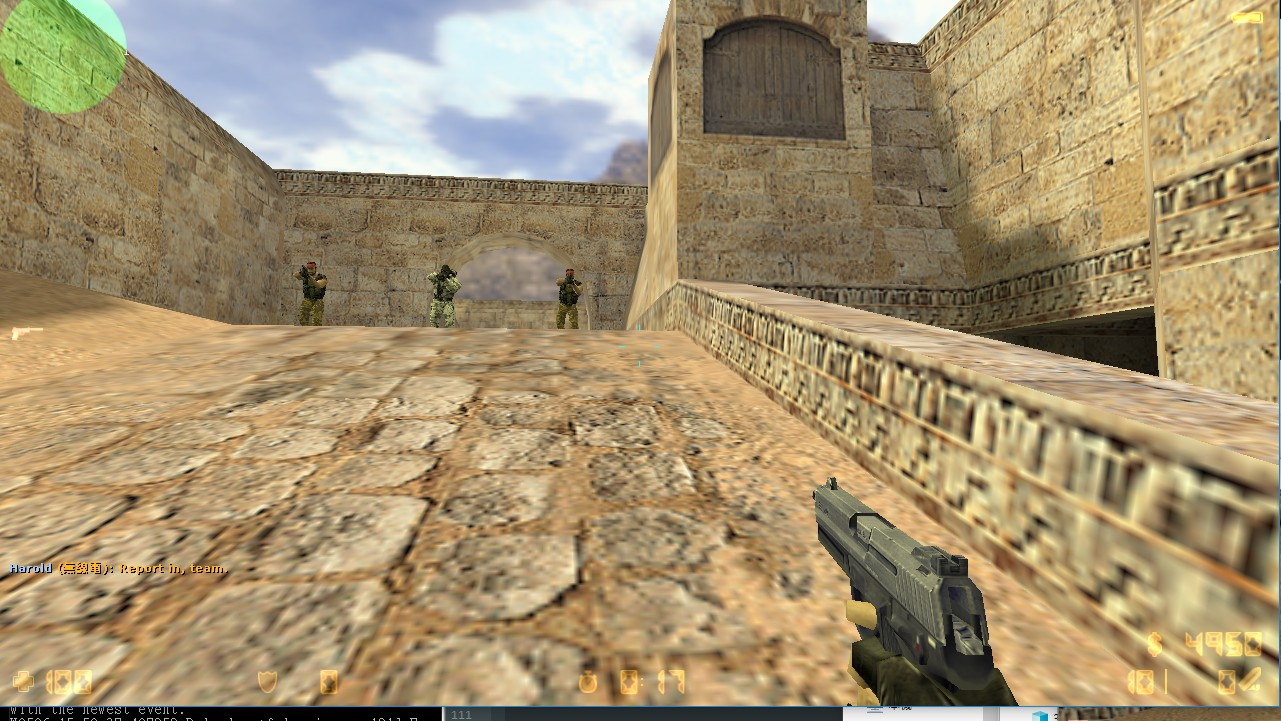person: (292, 258, 329, 326), (424, 263, 460, 327), (552, 266, 584, 329)
